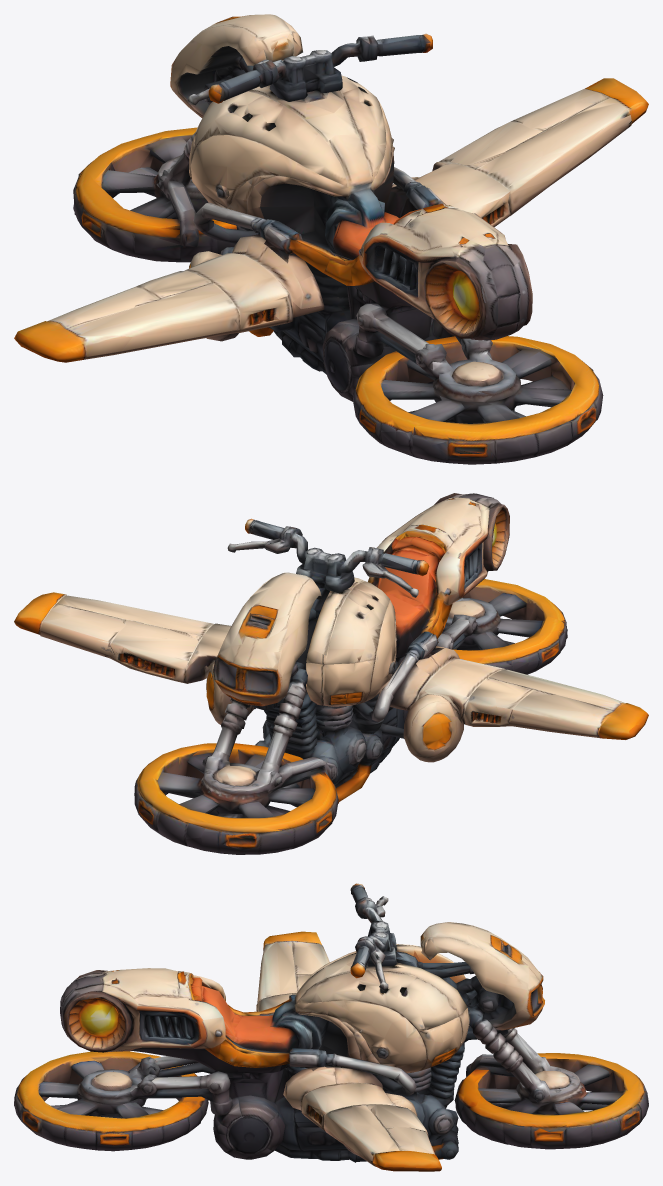
3 renders of one model, top to bottom at view 1: azimuth 30°, elevation 25°; view 2: azimuth 150°, elevation 25°; view 3: azimuth 270°, elevation 25°, orthographic. The views are drawn at different scales.
Parts seen in each view (by area): view 1: LOD0; view 2: LOD0; view 3: LOD0.
Part boxes in pixels (left/top/right/bottom): LOD0: left=14, top=14, right=648, bottom=464; LOD0: left=14, top=493, right=648, bottom=854; LOD0: left=14, top=883, right=648, bottom=1171.
Size of what is drawn, in the model's own units: 2.53 by 1.06 by 2.6.
